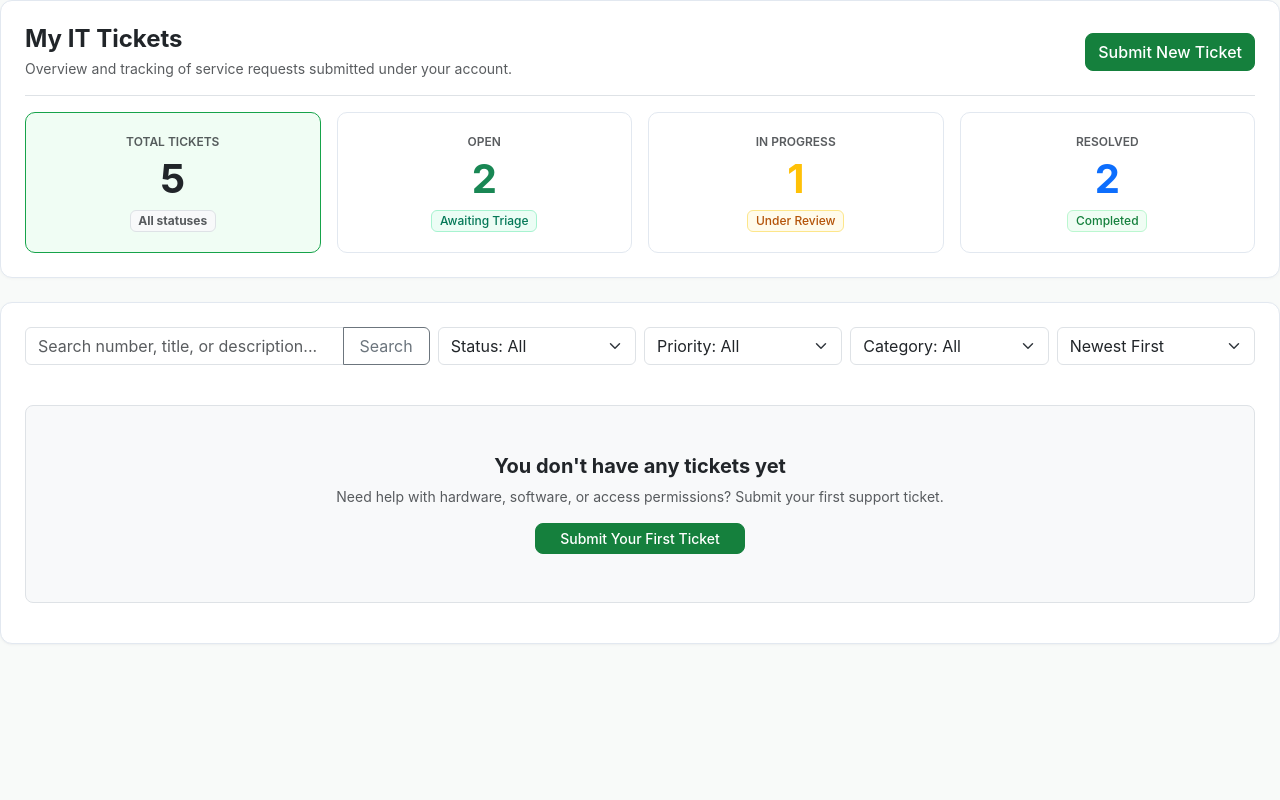
Test: Lab 2 — MyTicketsScreen Component › renders No-Results State when filters yield 0 matching tickets
# Apply search filter
Type "nonexistent-keyword" into the field with test id "search-input" at (184, 346), box [25,327,344,365]
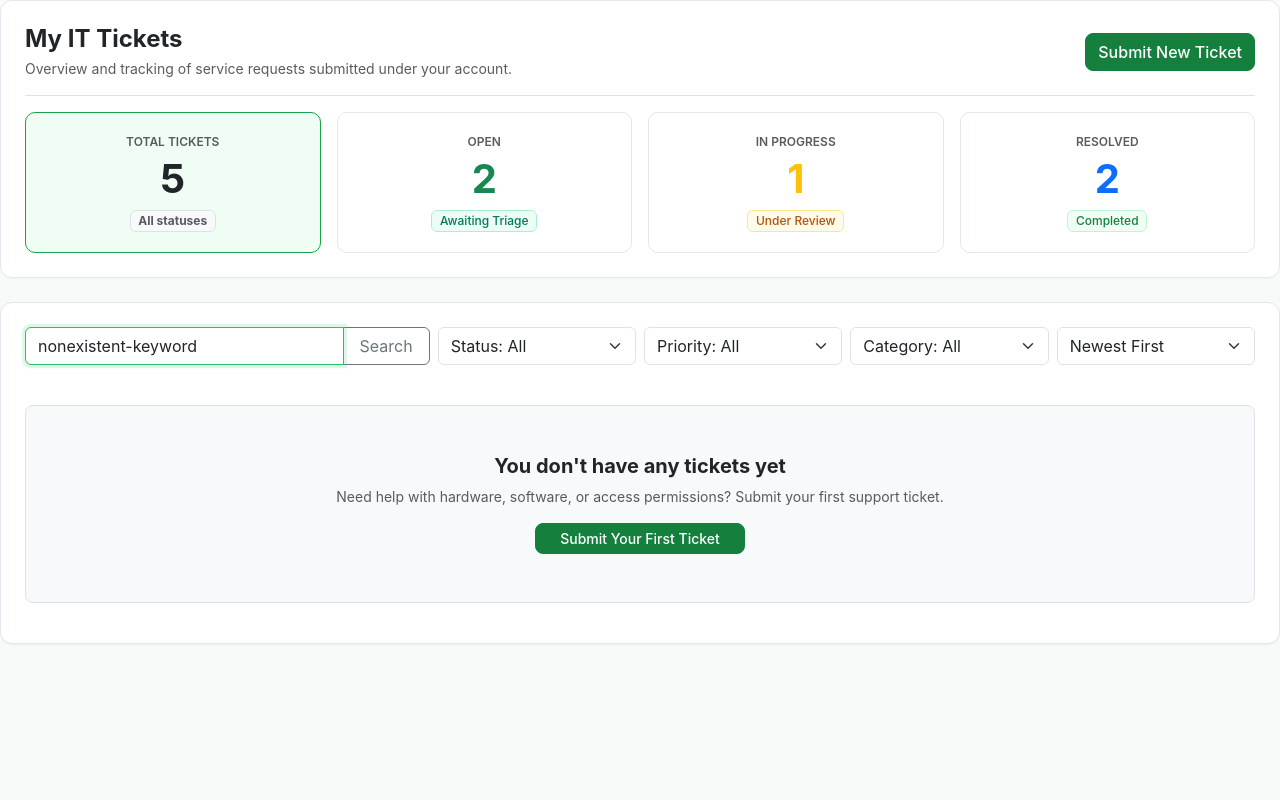
Click the button with test id "search-submit-btn" at (386, 346), box [343,327,430,365]
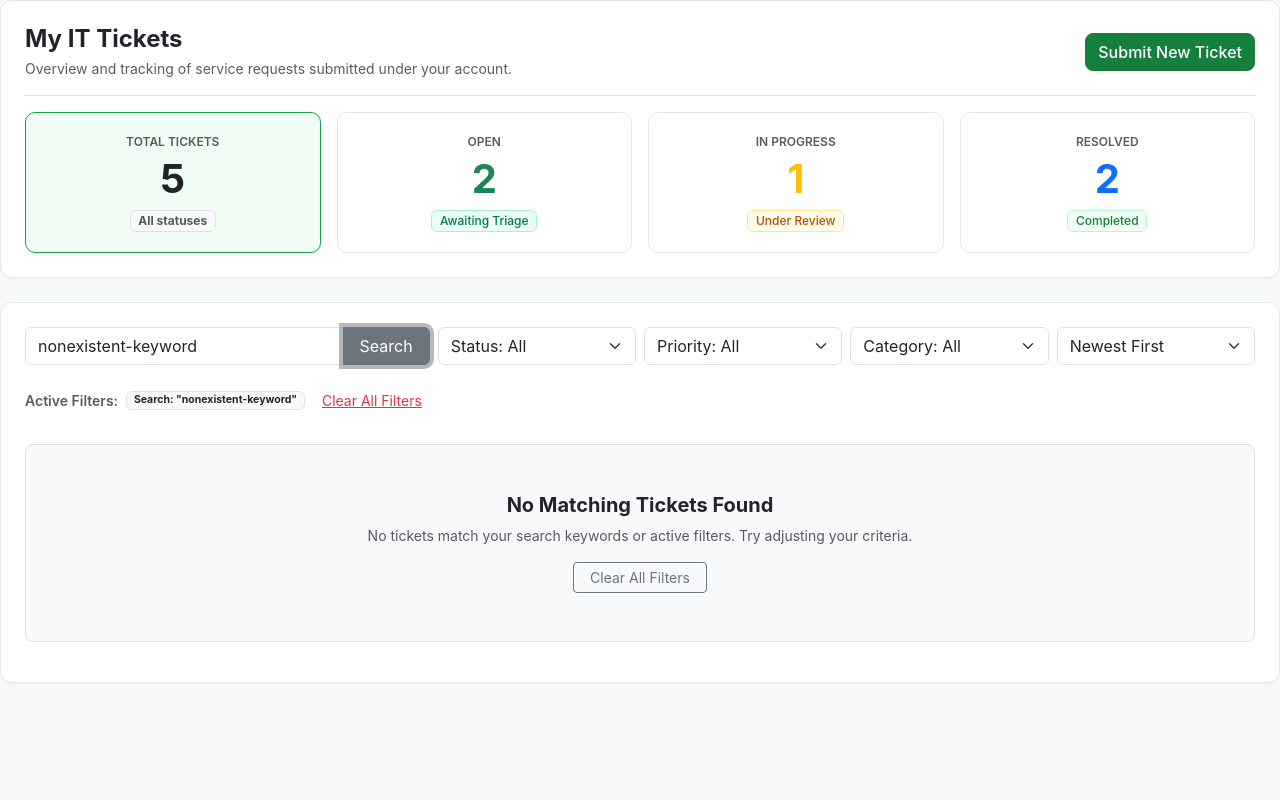
Now the element with test id "no-results-state" is shown, box [25,444,1255,642]
Now the heading "No Matching Tickets Found" is shown, box [507,493,773,517]
Now the button with test id "no-results-clear-btn" is shown, box [573,562,707,593]
